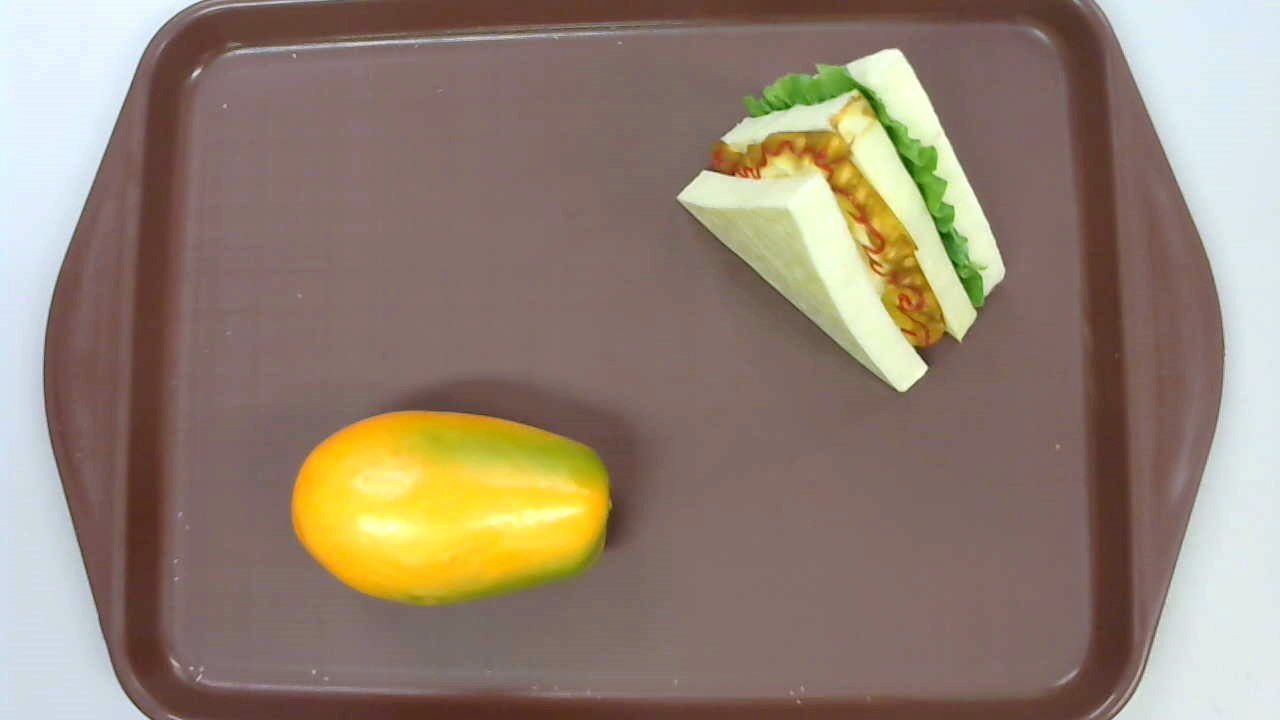papya: (290, 408, 612, 608)
sandwich: (676, 47, 1007, 395)
